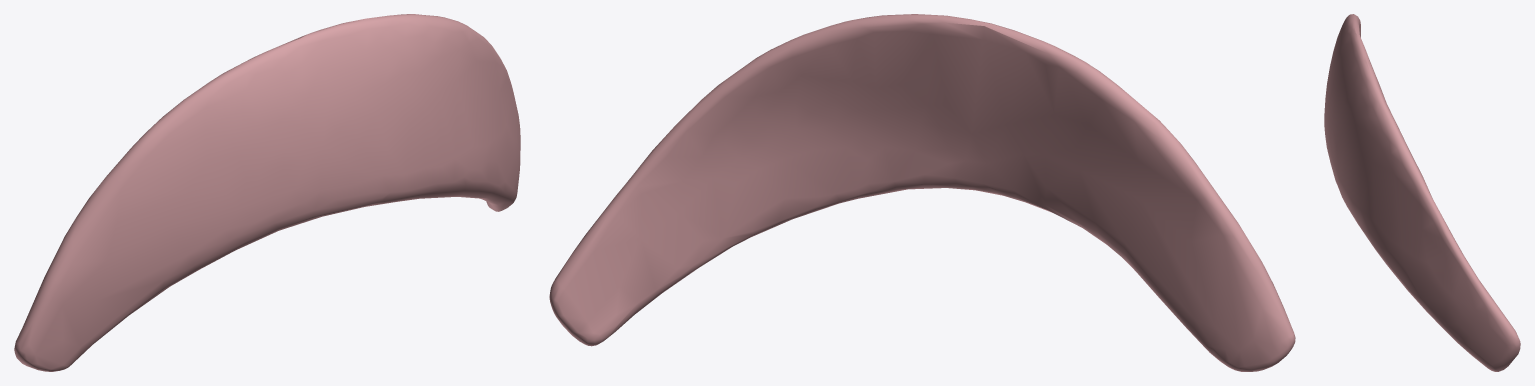
The model's file is fma59092_fj1324.glb.
3 renders of one model, left to right at view 1: azimuth 30°, elevation 25°; view 2: azimuth 150°, elevation 25°; view 3: azimuth 270°, elevation 25°, orthographic. The views are drawn at different scales.
Parts seen in each view (by area): view 1: FMA59092_FJ1324; view 2: FMA59092_FJ1324; view 3: FMA59092_FJ1324.
Part boxes in pixels (x1,y1,x2,y2): FMA59092_FJ1324: (14,14,520,371); FMA59092_FJ1324: (549,14,1295,371); FMA59092_FJ1324: (1324,14,1520,371).
Bounding box in the file's own units: 0.0256 × 0.0125 × 0.00958.
